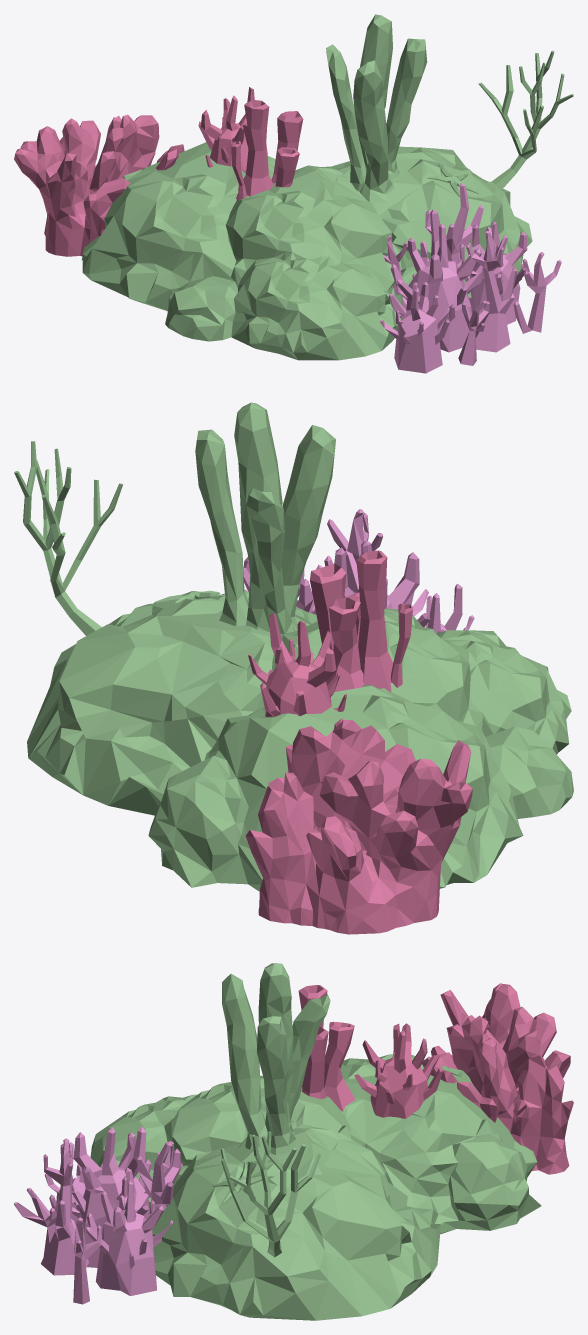
The model's file is zone1-stone1.glb.
3 views of the same model, one above another, from view 1: azimuth 30°, elevation 25°; view 2: azimuth 150°, elevation 25°; view 3: azimuth 270°, elevation 25° (orthographic). The views are drawn at different scales.
Visible parts, largest first — view 1: vegetation-sea-corals.001; view 2: vegetation-sea-corals.001; view 3: vegetation-sea-corals.001.
Boxes of the visible parts, x1,y1,x2,y2 form: vegetation-sea-corals.001: [14, 14, 573, 373]; vegetation-sea-corals.001: [14, 402, 573, 934]; vegetation-sea-corals.001: [14, 963, 573, 1320].
Size of the model in its own units: 10.35 by 6.23 by 10.27.
